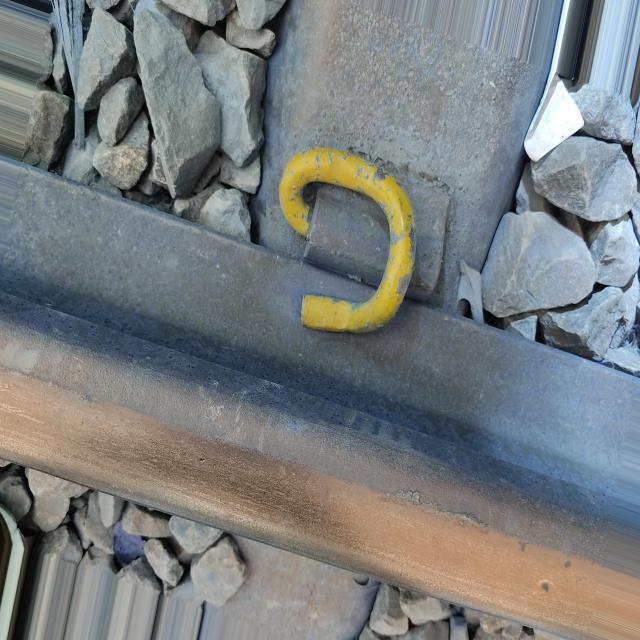Good Fasteners: (242, 78, 493, 386)
